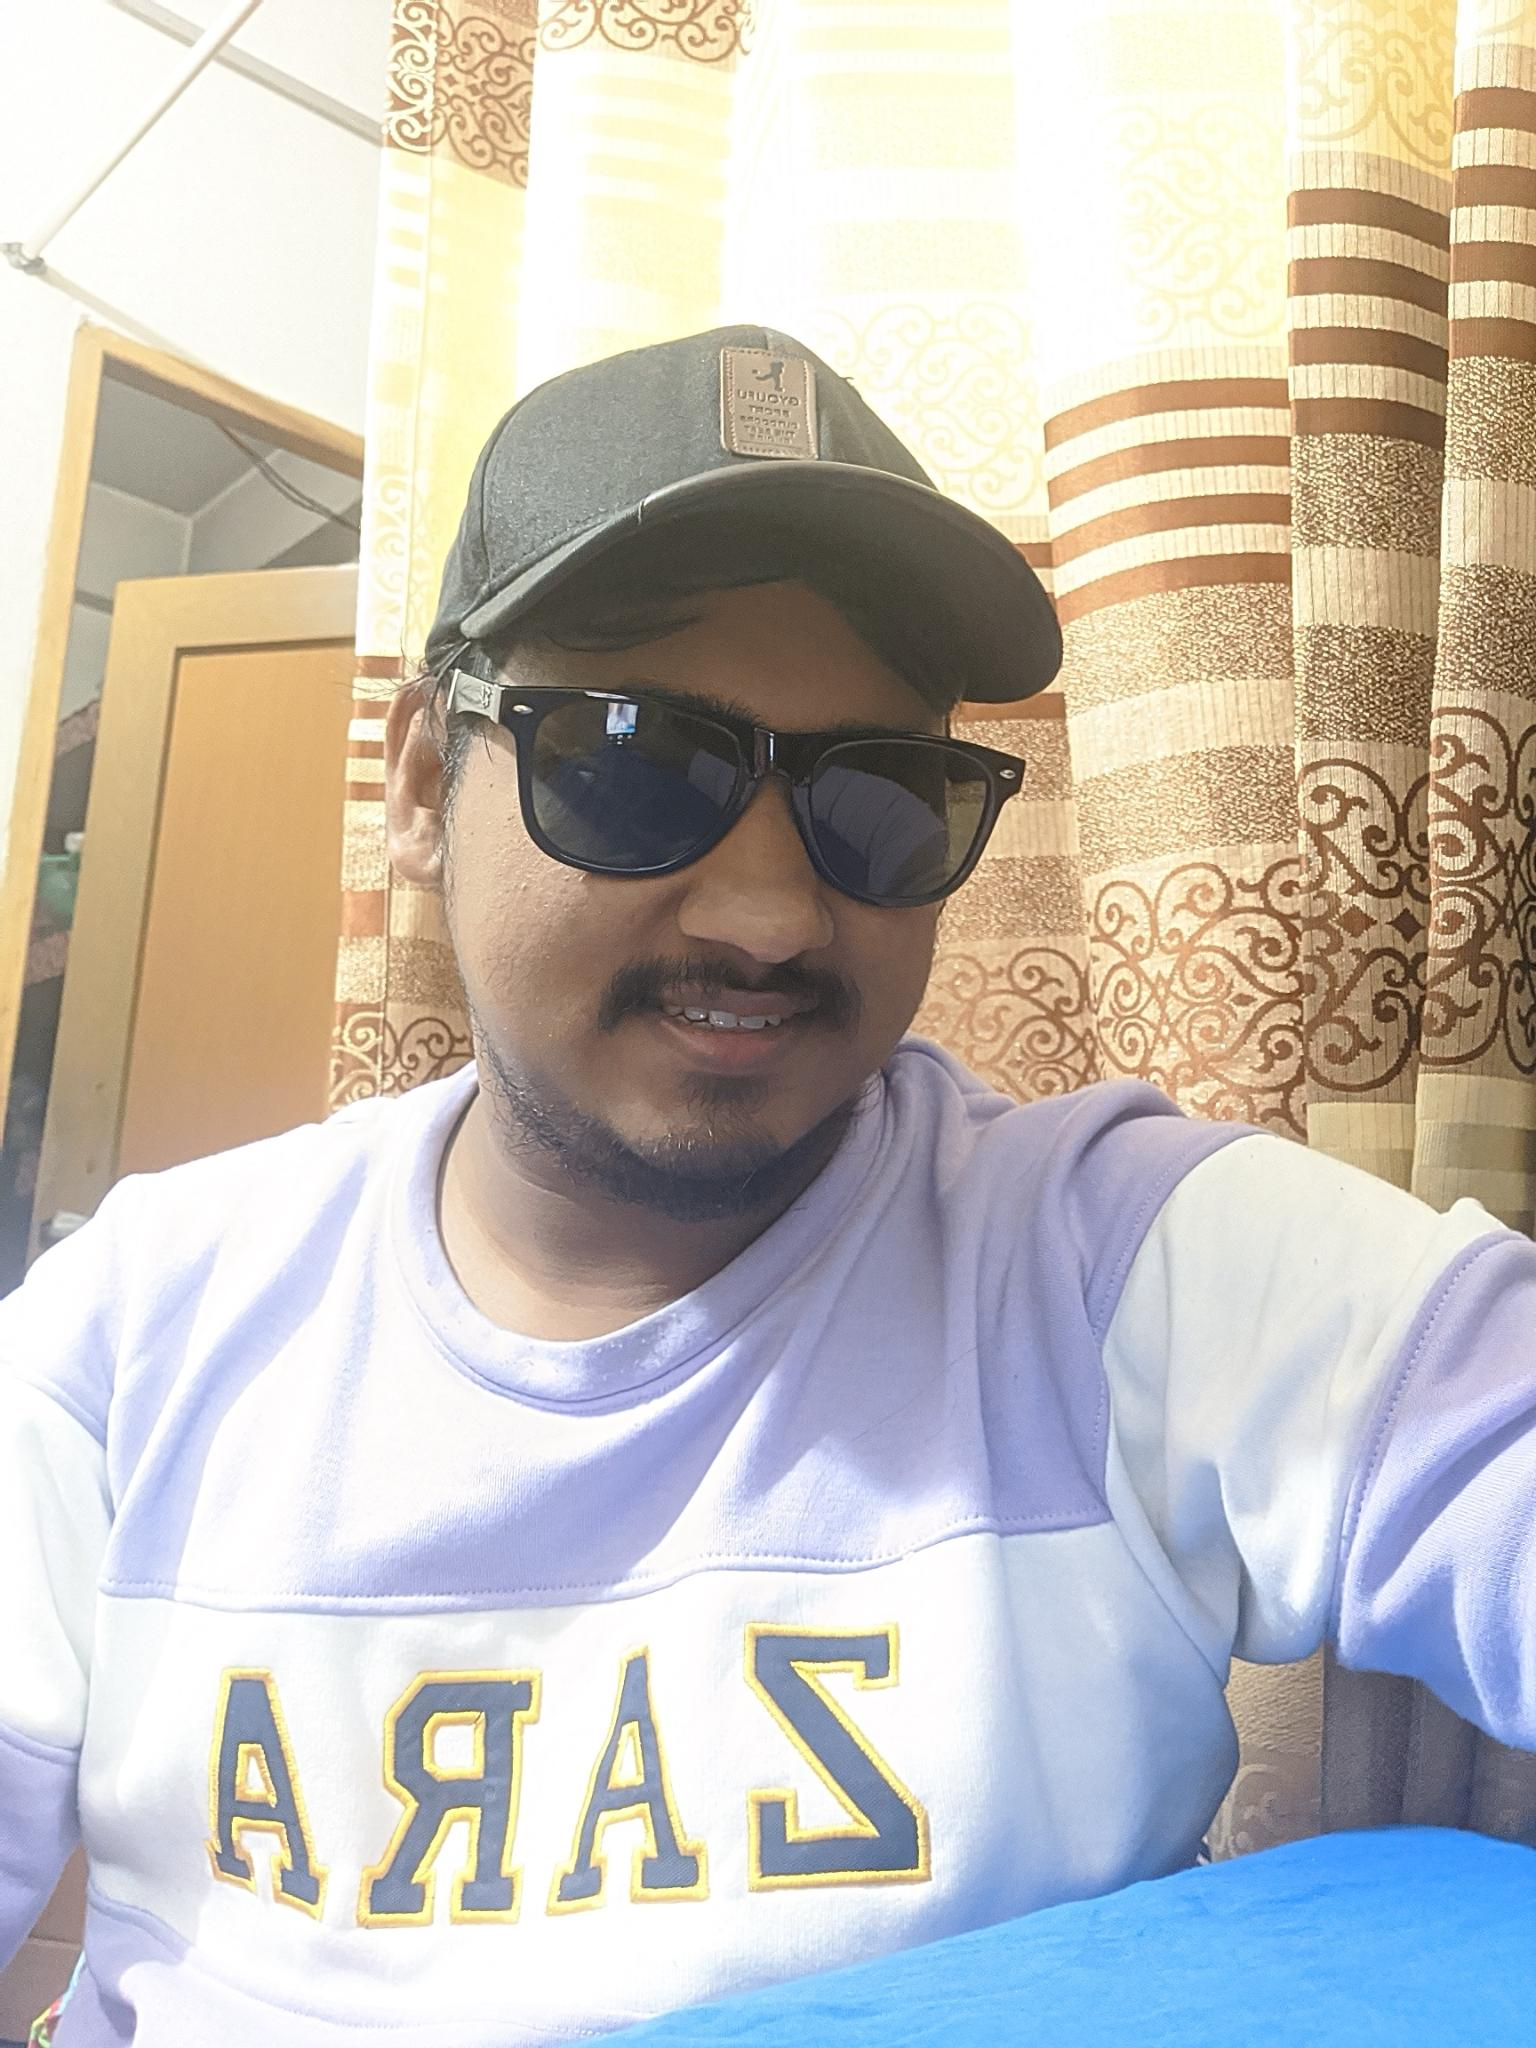Happy: (499, 627, 955, 1184)
